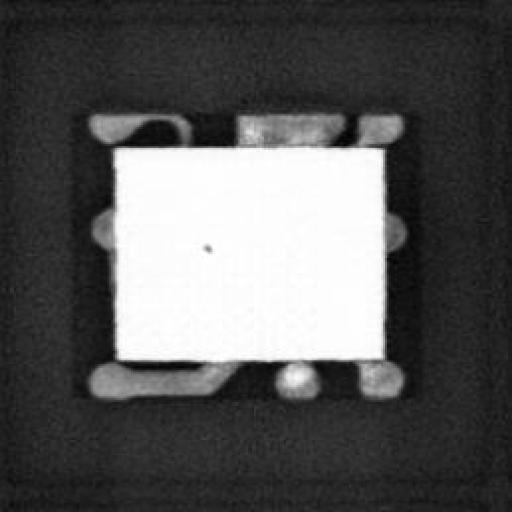DIE_INK: (196, 237, 214, 254)
